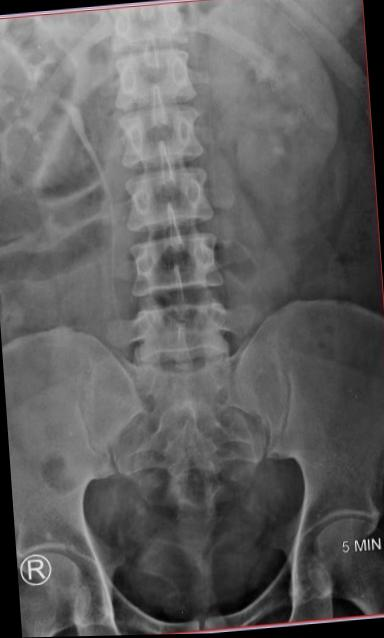vertebrae: (107, 44, 201, 111)
